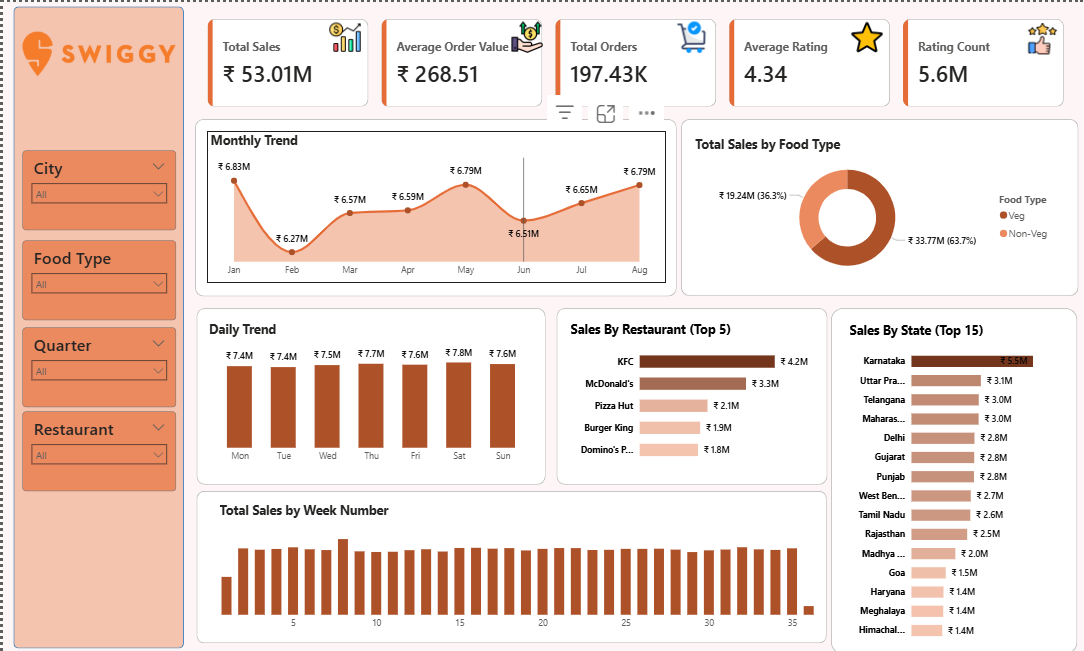

The dashboard page shown, as its layout file describes it:
{"tool":"powerbi","page":{"name":"Page 1","canvas":[1500,900],"ordinal":0},"visuals":[{"type":"shape","box":[14.5,6.2,235,886.2],"z":0},{"type":"cardVisual","fields":{"Data":["fact_orders.Total Sales","fact_orders.Average Order Value","fact_orders.Total Orders","Avg(fact_orders.rating)","Sum(fact_orders.rating_count)"]},"box":[265,6.2,1219.6,155.3],"z":1000},{"type":"image","box":[443.1,26.9,58,43.5],"z":2000},{"type":"image","box":[697.8,26.9,51.8,43.5],"z":3000},{"type":"image","box":[1163.7,26.9,58,43.5],"z":4000},{"type":"image","box":[921.4,26.9,58,43.5],"z":5000},{"type":"image","box":[1405.9,29,58,43.5],"z":6000},{"type":"image","box":[26.9,26.9,211.2,89],"z":7000},{"type":"shape","box":[265,161,665,245],"z":8000},{"type":"areaChart","title":"Monthly Trend","fields":{"Category":["dim_date.Month"],"Y":["fact_orders.Total Sales"]},"box":[281.6,178.1,633.6,209.1],"z":9000},{"type":"shape","box":[935.9,161.5,548.7,244.3],"z":10000},{"type":"donutChart","fields":{"Category":["dim_dish.Food Type"],"Y":["fact_orders.Total Sales"]},"box":[950.4,184.3,513.5,202.9],"z":11000},{"type":"shape","box":[268,422,482,244],"z":12000},{"type":"clusteredColumnChart","title":"Daily Trend","fields":{"Category":["dim_date.Day"],"Y":["fact_orders.Total Sales"]},"box":[280,440,458,206],"z":13000},{"type":"shape","box":[764,422,374,244],"z":14000},{"type":"barChart","title":"Sales By Restaurant (Top 5)","fields":{"Category":["dim_restaurant.restaurant_name"],"Y":["fact_orders.Total Sales"]},"box":[778,440,348,206],"z":15000},{"type":"shape","box":[1144,422,340,478],"z":16000},{"type":"barChart","title":"Sales By State (Top 15)","fields":{"Category":["dim_location.state"],"Y":["fact_orders.Total Sales"]},"box":[1164,442,308,450],"z":17000},{"type":"shape","box":[268,676,870,210],"z":18000},{"type":"columnChart","fields":{"Category":["dim_date.Week Number"],"Y":["fact_orders.Total Sales"]},"box":[294,690,832,186],"z":19000},{"type":"slicer","fields":{"Values":["dim_location.city"]},"box":[26,204,212,110],"z":19001},{"type":"slicer","fields":{"Values":["dim_dish.Food Type"]},"box":[26,330,212,110],"z":19002},{"type":"slicer","fields":{"Values":["dim_date.Quarter"]},"box":[26,450,212,110],"z":19003},{"type":"slicer","fields":{"Values":["dim_restaurant.restaurant_name"]},"box":[26,566,212,110],"z":19004}]}

Visuals, with their boxes in screenshot pixels (x1, y1, x2, y2), scaled from the page's 1500x900 canvas onto the 1084x651 screenshot:
shape: <region>10, 4, 180, 646</region>
cardVisual - fact_orders.Total Sales x fact_orders.Average Order Value: <region>192, 4, 1073, 117</region>
image: <region>320, 19, 362, 51</region>
image: <region>504, 19, 542, 51</region>
image: <region>841, 19, 883, 51</region>
image: <region>666, 19, 708, 51</region>
image: <region>1016, 21, 1058, 52</region>
image: <region>19, 19, 172, 84</region>
shape: <region>192, 116, 672, 294</region>
"Monthly Trend" areaChart: <region>204, 129, 661, 280</region>
shape: <region>676, 117, 1073, 294</region>
donutChart - dim_dish.Food Type x fact_orders.Total Sales: <region>687, 133, 1058, 280</region>
shape: <region>194, 305, 542, 482</region>
"Daily Trend" clusteredColumnChart: <region>202, 318, 533, 467</region>
shape: <region>552, 305, 822, 482</region>
"Sales By Restaurant (Top 5)" barChart: <region>562, 318, 814, 467</region>
shape: <region>827, 305, 1072, 650</region>
"Sales By State (Top 15)" barChart: <region>841, 320, 1064, 645</region>
shape: <region>194, 489, 822, 641</region>
columnChart - dim_date.Week Number x fact_orders.Total Sales: <region>212, 499, 814, 634</region>
slicer - dim_location.city: <region>19, 148, 172, 227</region>
slicer - dim_dish.Food Type: <region>19, 239, 172, 318</region>
slicer - dim_date.Quarter: <region>19, 326, 172, 405</region>
slicer - dim_restaurant.restaurant_name: <region>19, 409, 172, 489</region>
